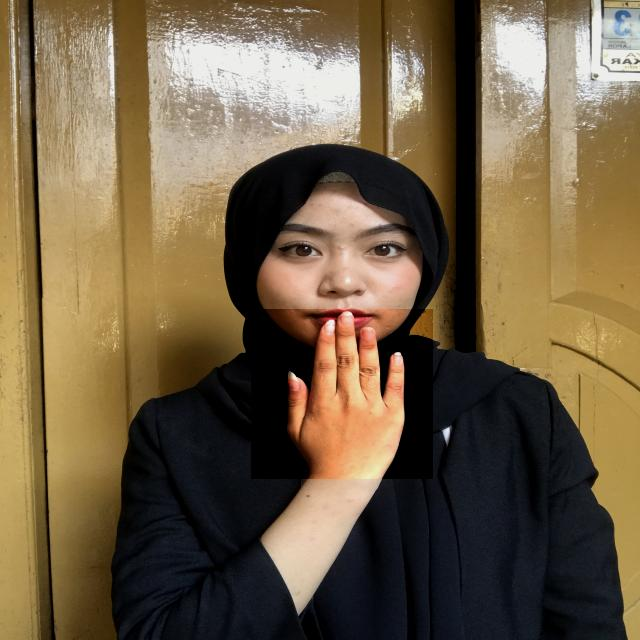ganteng: (251, 309, 433, 479)
